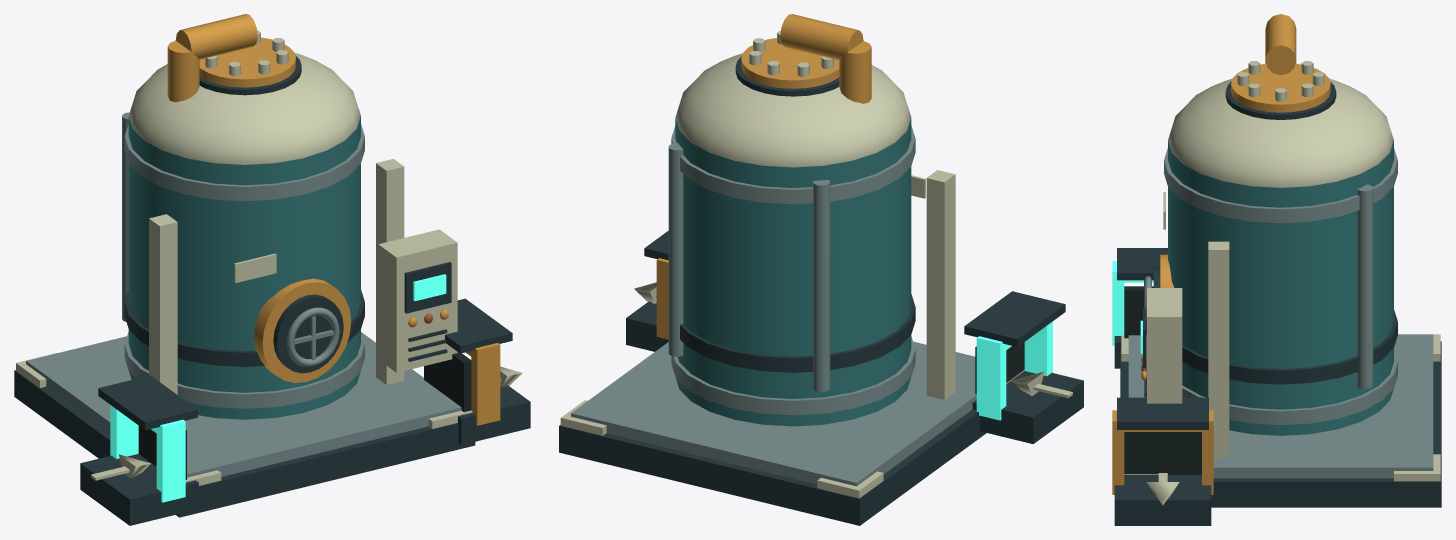
File: reactor.glb
3 renders of one model, left to right at view 1: azimuth 30°, elevation 25°; view 2: azimuth 150°, elevation 25°; view 3: azimuth 270°, elevation 25°, orthographic. The views are drawn at different scales.
Parts seen in each view (by area): view 1: Batched static factory; view 2: Batched static factory; view 3: Batched static factory.
Part boxes in pixels (left/top/right/bottom): Batched static factory: left=14, top=14, right=530, bottom=525; Batched static factory: left=559, top=14, right=1083, bottom=525; Batched static factory: left=1112, top=14, right=1441, bottom=525.
Size of the model in its own units: 4.09 by 3.69 by 2.79.
